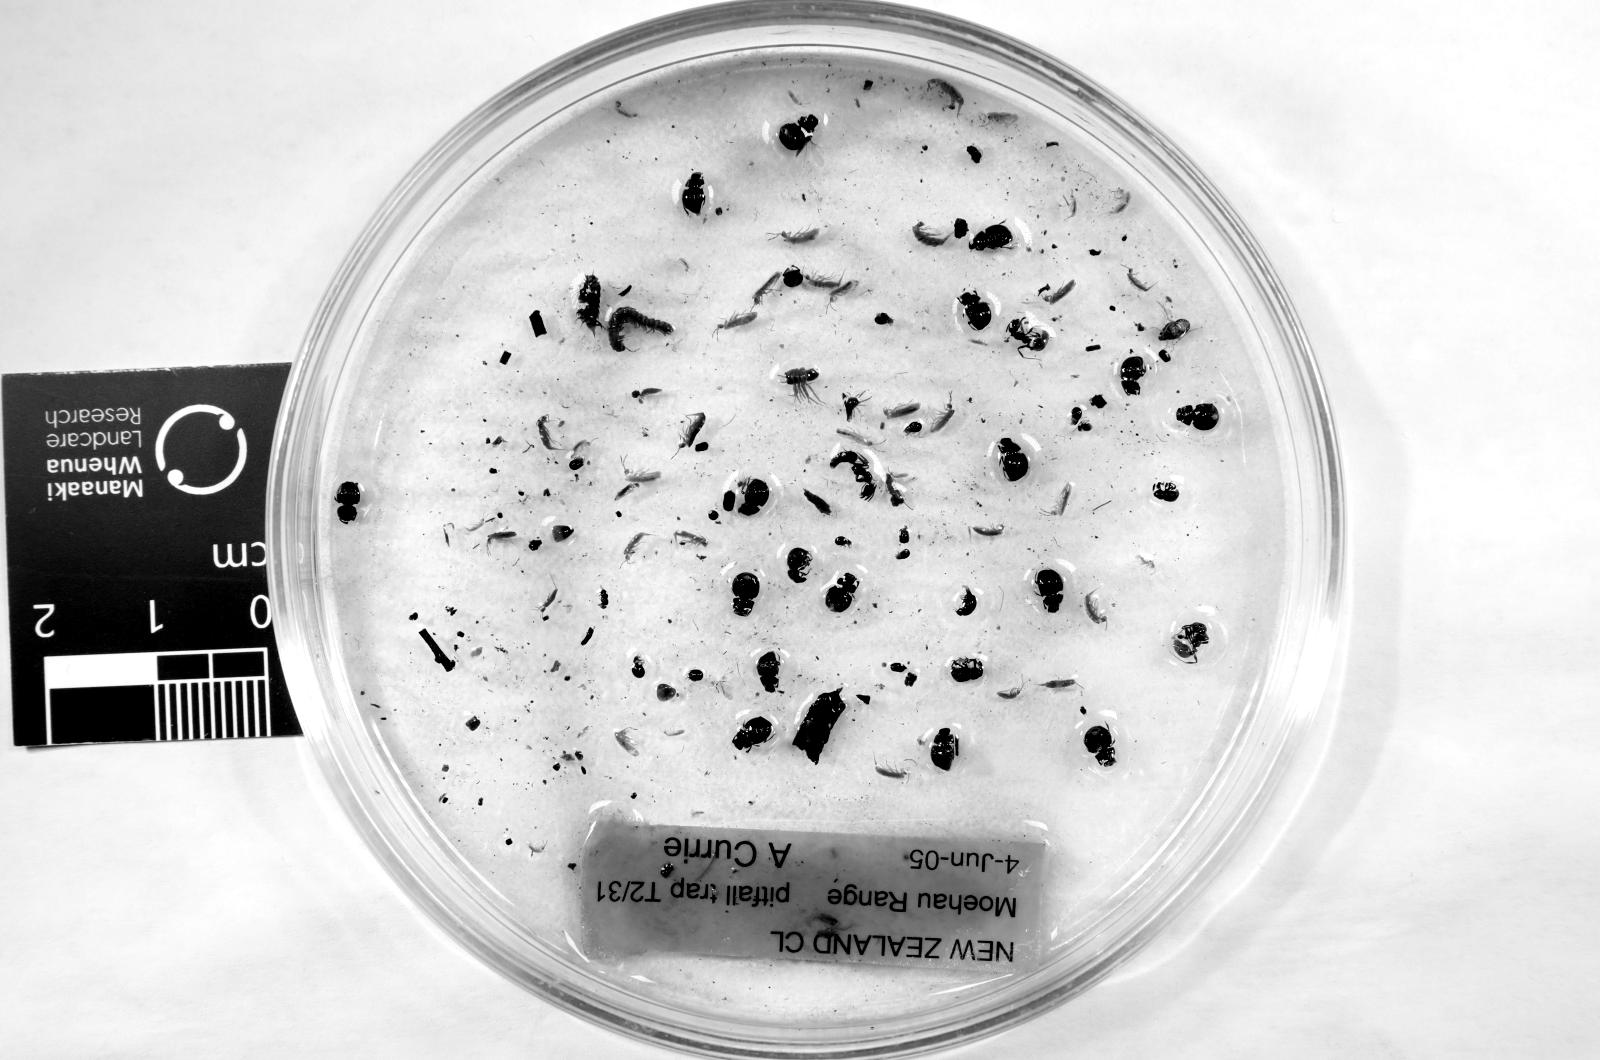acari: (1071, 407, 1081, 426)
araneae: (784, 369, 818, 403)
coleoptera: (959, 292, 993, 332), (825, 571, 860, 612), (1035, 568, 1065, 612), (731, 571, 759, 618), (734, 717, 772, 751), (1175, 403, 1219, 432), (931, 726, 959, 770), (1084, 726, 1115, 767), (1000, 438, 1028, 481), (738, 478, 769, 516), (972, 224, 1012, 252), (1119, 357, 1147, 394), (681, 174, 706, 214), (757, 652, 782, 692), (335, 481, 359, 522), (788, 547, 812, 584), (950, 658, 984, 684), (957, 587, 978, 618), (1153, 481, 1178, 503)
collembola: (928, 78, 966, 109), (678, 413, 706, 451), (753, 273, 782, 304), (913, 220, 947, 245), (715, 310, 757, 329), (1044, 279, 1075, 304), (622, 531, 647, 562), (778, 227, 818, 245), (1084, 593, 1106, 625), (837, 428, 872, 447), (931, 403, 953, 432), (538, 416, 556, 451), (626, 468, 660, 485), (831, 279, 856, 302), (1054, 485, 1071, 516), (616, 730, 637, 755), (1128, 267, 1149, 292), (885, 403, 919, 419), (675, 531, 706, 547), (875, 767, 909, 780), (487, 531, 516, 547), (807, 277, 841, 289), (972, 525, 1003, 537), (1041, 680, 1075, 690), (997, 686, 1022, 699)
diplopoda: (609, 308, 672, 351)
formicidae: (831, 451, 875, 500), (1006, 314, 1054, 351), (1172, 625, 1210, 661)
